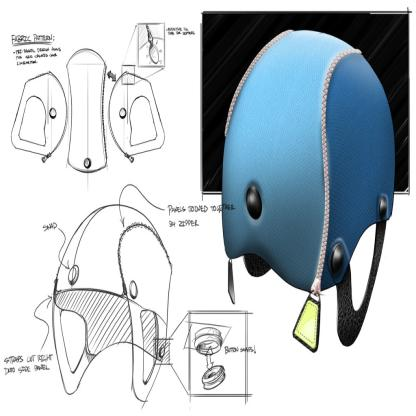Helmet: (226, 9, 400, 332)
